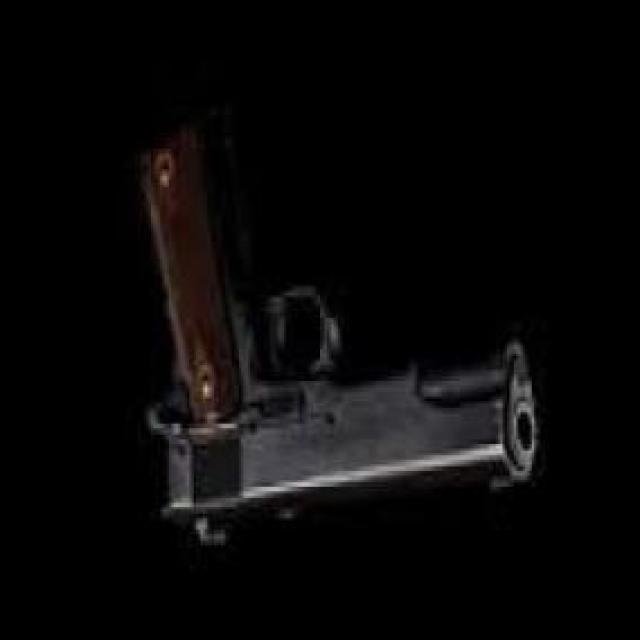pistol: (141, 112, 538, 546)
